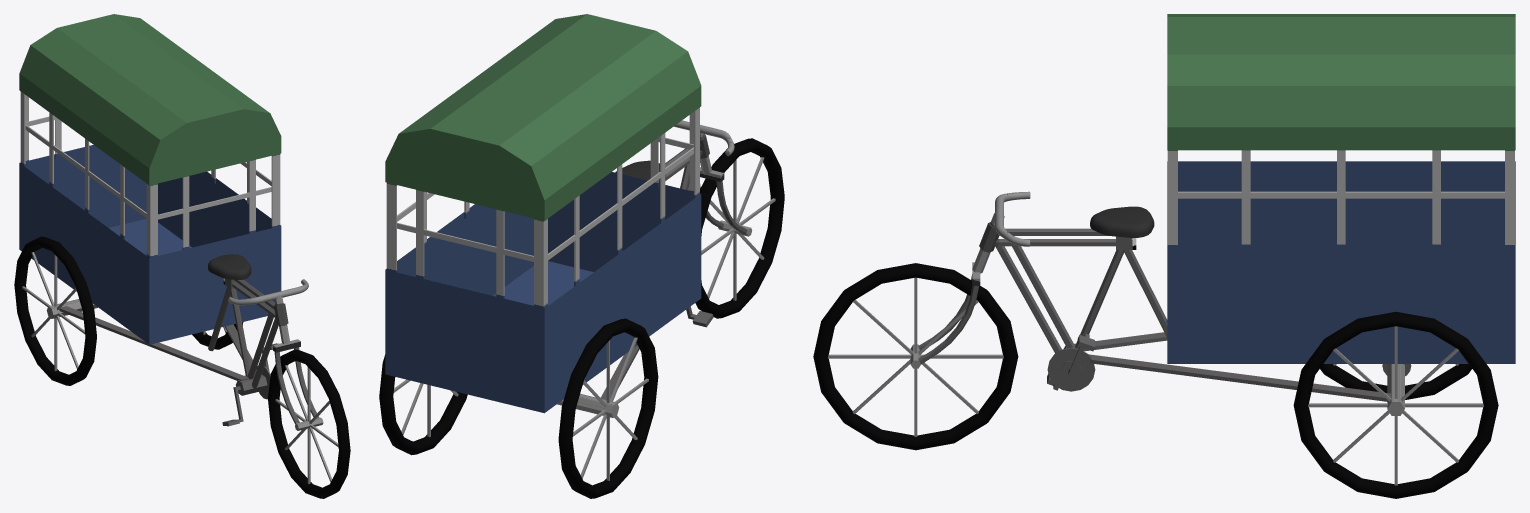
File: School Van.fbx
3 renders of one model, left to right at view 1: azimuth 30°, elevation 25°; view 2: azimuth 150°, elevation 25°; view 3: azimuth 270°, elevation 25°, orthographic. The views are drawn at different scales.
Parts seen in each view (by area): view 1: Model_school Van; view 2: Model_school Van; view 3: Model_school Van.
Boxes of the visible parts, left/top/right/bottom form: Model_school Van: left=14, top=14, right=350, bottom=498; Model_school Van: left=379, top=14, right=784, bottom=498; Model_school Van: left=813, top=14, right=1515, bottom=498.
Size of the model in its own units: 142 by 262 by 403.
Materials: 1 (1 with a texture image).
